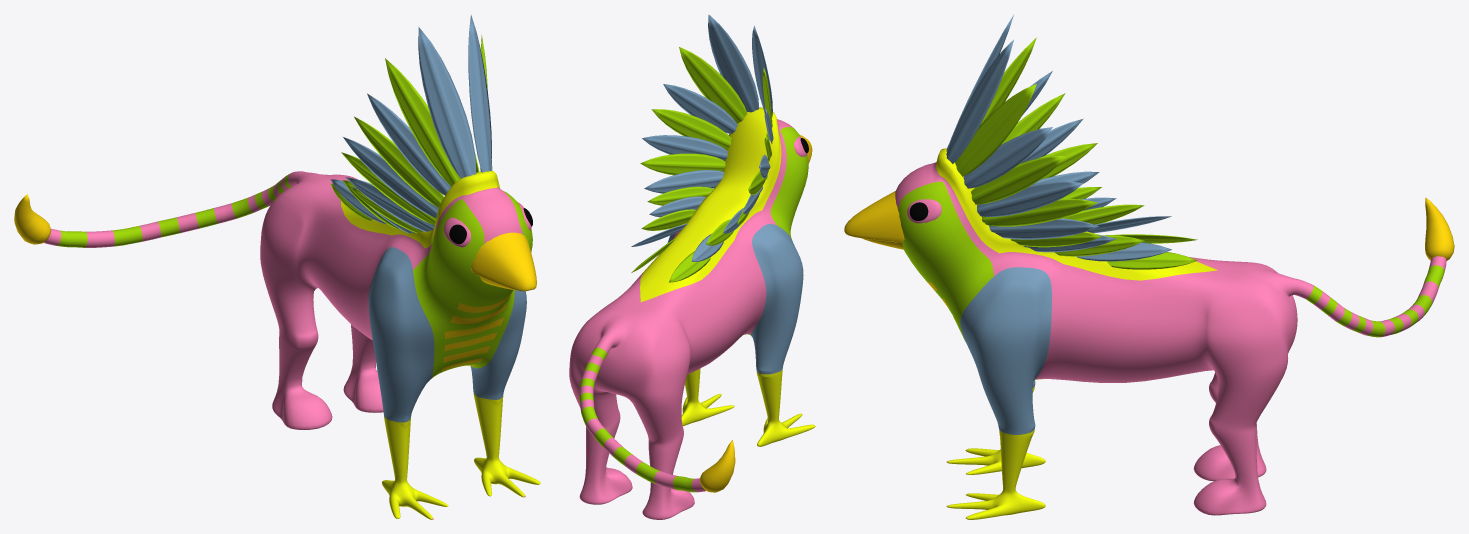
File: Alebrije_GLB.glb
3 views of the same model, side by side, from view 1: azimuth 30°, elevation 25°; view 2: azimuth 150°, elevation 25°; view 3: azimuth 270°, elevation 25° (orthographic). The views are drawn at different scales.
Parts seen in each view (by area): view 1: pCube50, polySurface2, pCube54, polySurface4, polySurface1, polySurface6, polySurface8, polySurface10, pCube45, polySurface14, polySurface12; view 2: pCube50, polySurface1, polySurface3, polySurface5, polySurface7, polySurface11, polySurface9, polySurface13, pCube45, polySurface2, polySurface15, polySurface19 (+5 smaller); view 3: pCube50, polySurface3, polySurface1, polySurface5, polySurface7, pCube54, polySurface9, polySurface11, polySurface13, pCube45, polySurface4, polySurface23 (+7 smaller).
Boxes of the visible parts, left/top/right/bottom form: pCube50: left=44, top=171, right=540, bottom=519; polySurface2: left=418, top=27, right=476, bottom=178; pCube54: left=471, top=232, right=536, bottom=291; polySurface4: left=385, top=58, right=460, bottom=186; polySurface1: left=468, top=15, right=491, bottom=172; polySurface6: left=367, top=93, right=451, bottom=195; polySurface8: left=354, top=116, right=443, bottom=207; polySurface10: left=343, top=137, right=438, bottom=217; pCube45: left=14, top=194, right=51, bottom=244; polySurface14: left=345, top=177, right=434, bottom=232; polySurface12: left=341, top=152, right=436, bottom=225; pCube50: left=569, top=107, right=815, bottom=519; polySurface1: left=708, top=14, right=758, bottom=112; polySurface3: left=679, top=47, right=747, bottom=123; polySurface5: left=663, top=84, right=737, bottom=133; polySurface7: left=651, top=109, right=731, bottom=149; polySurface11: left=640, top=153, right=725, bottom=175; polySurface9: left=642, top=135, right=727, bottom=160; polySurface13: left=644, top=170, right=724, bottom=193; pCube45: left=699, top=440, right=735, bottom=492; polySurface2: left=752, top=25, right=772, bottom=117; polySurface15: left=647, top=186, right=714, bottom=205; polySurface19: left=641, top=209, right=695, bottom=230; pCube50: left=895, top=148, right=1446, bottom=519; polySurface3: left=955, top=84, right=1036, bottom=176; polySurface1: left=946, top=40, right=1013, bottom=163; polySurface5: left=963, top=127, right=1052, bottom=188; polySurface7: left=971, top=156, right=1065, bottom=204; pCube54: left=844, top=191, right=904, bottom=242; polySurface9: left=977, top=181, right=1083, bottom=216; polySurface11: left=981, top=198, right=1097, bottom=226; polySurface13: left=988, top=218, right=1099, bottom=239; pCube45: left=1425, top=197, right=1454, bottom=260; polySurface4: left=980, top=37, right=1036, bottom=124; polySurface23: left=1106, top=252, right=1197, bottom=269.
Bounding box in the file's own units: 1.42 × 2.2 × 2.63.
